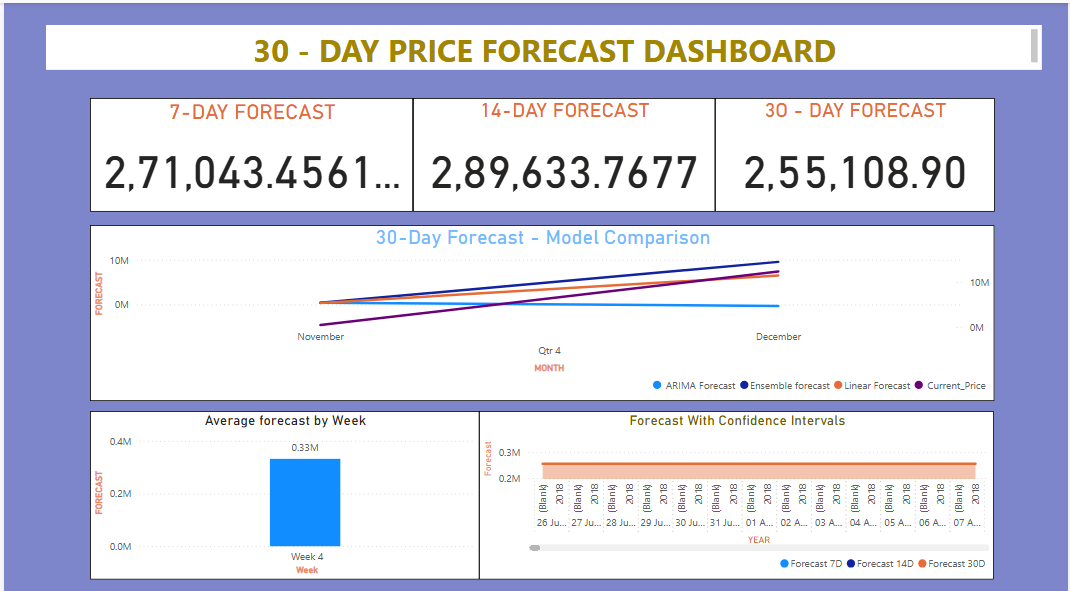

Layout of this report page (visuals, bound fields, positions):
{"tool":"powerbi","page":{"name":"Page 3","canvas":[1280,720],"ordinal":2},"visuals":[{"type":"textbox","box":[51.1,27,1198.9,54.1],"z":0},{"type":"card","title":"7-DAY FORECAST","fields":{"Values":["FutureForecast.Forecast 7D"]},"box":[103.7,114.2,389.1,136.7],"z":1000},{"type":"card","title":"14-DAY FORECAST","fields":{"Values":["FutureForecast.Forecast 14D"]},"box":[492.8,114.2,363.6,136.7],"z":2000},{"type":"card","title":"3O - DAY  FORECAST","fields":{"Values":["KPIDashboard.Forecast 30D"]},"box":[856.3,114.2,336.5,136.7],"z":3000},{"type":"lineChart","title":"30-Day Forecast - Model Comparison","fields":{"Y":["Sum(FutureForecast.ARIMA_Forecast)","Sum(FutureForecast.Ensemble_forecast)","Sum(FutureForecast.Linear_forecast)"],"Category":["FutureForecast.Date.Variation.Date Hierarchy.Quarter","FutureForecast.Date.Variation.Date Hierarchy.Month"],"Y2":["Sum(FutureForecast.Current_Price)"]},"box":[103.7,267.4,1089.2,211.8],"z":4000},{"type":"clusteredColumnChart","title":" Average forecast by Week","fields":{"Category":["FutureForecast.Week"],"Y":["Avg(FutureForecast.Ensemble_forecast)"]},"box":[103.7,491.3,468.7,202.8],"z":5000},{"type":"areaChart","title":"Forecast With Confidence Intervals","fields":{"Category":["BitcoinComplete.date","FutureForecast.Date.Variation.Date Hierarchy.Year"],"Y":["FutureForecast.Forecast 7D","FutureForecast.Forecast 14D","KPIDashboard.Forecast 30D"]},"box":[572.4,491.3,620.5,202.8],"z":6000}]}

Visuals, with their boxes in screenshot pixels (x1, y1, x2, y2), scaled from the page's 1280x720 canvas onto the 1070x591 screenshot:
textbox: box(43, 22, 1045, 67)
"7-DAY FORECAST" card: box(87, 94, 412, 206)
"14-DAY FORECAST" card: box(412, 94, 716, 206)
"3O - DAY  FORECAST" card: box(716, 94, 997, 206)
"30-Day Forecast - Model Comparison" lineChart: box(87, 219, 997, 393)
" Average forecast by Week" clusteredColumnChart: box(87, 403, 478, 570)
"Forecast With Confidence Intervals" areaChart: box(478, 403, 997, 570)
